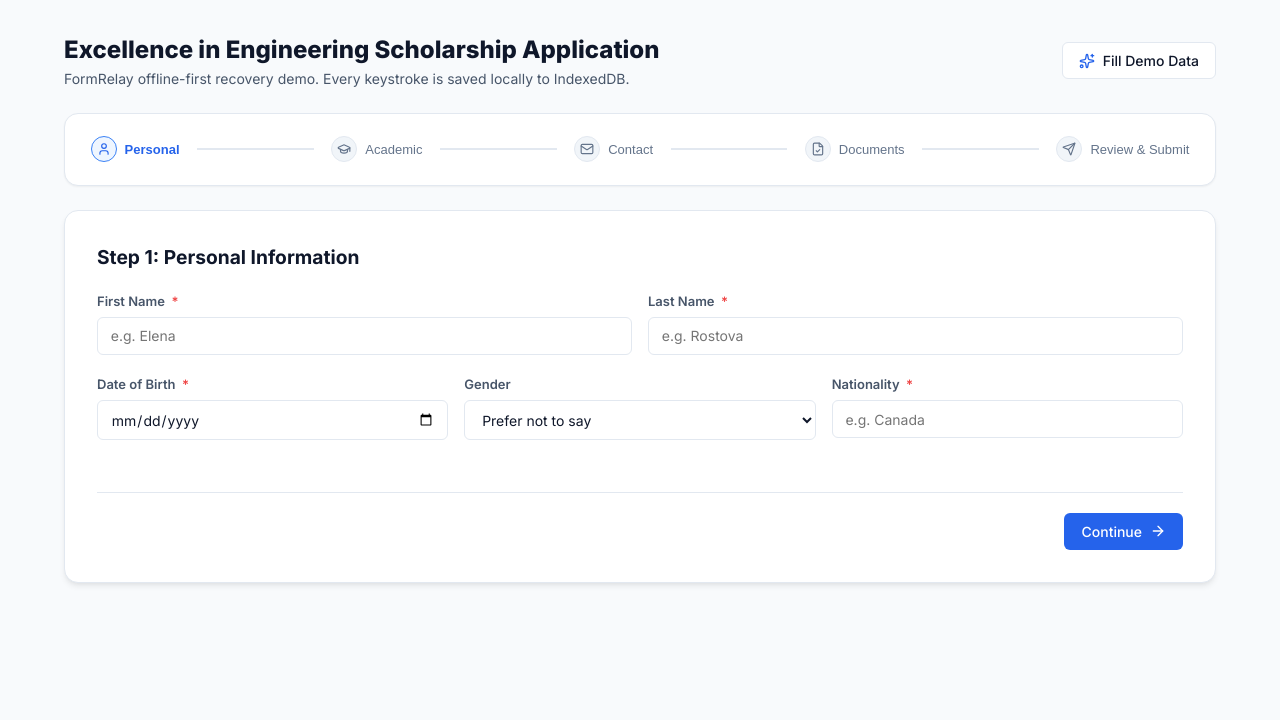
Test: ScholarshipWizard Component › renders step 1 with validation
expect the heading "Excellence in Engineering Scholarship Application" is shown: met, box x1=64 y1=32 x2=660 y2=68
expect the heading "Step 1: Personal Information" is shown: met, box x1=97 y1=245 x2=359 y2=269
// Clicking continue without required fields shows validation error
Click the button "Continue" at (1124, 531), box x1=1064 y1=513 x2=1183 y2=550
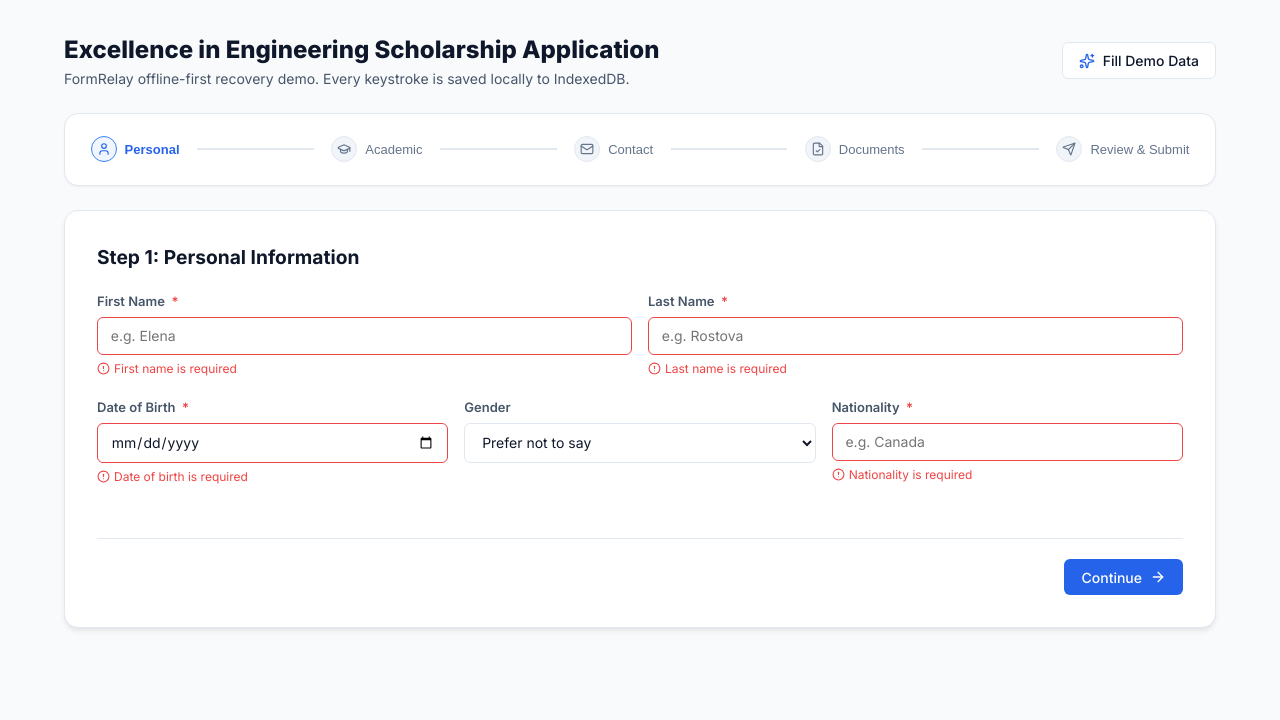
expect the text "First name is required" is shown: met, box x1=97 y1=361 x2=237 y2=376
